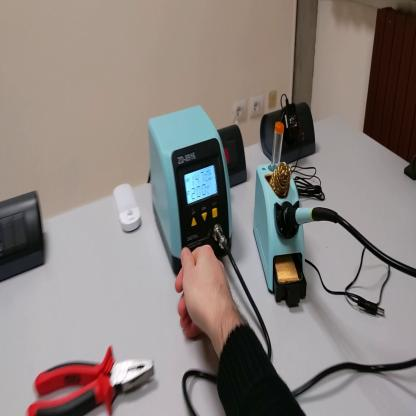hand: (177, 243, 235, 341)
pliers: (28, 351, 160, 415)
socket: (260, 98, 315, 165), (217, 121, 251, 189)
welder base: (255, 120, 311, 309)
welder probe tip: (282, 205, 332, 236)
welder station: (147, 104, 233, 281)
